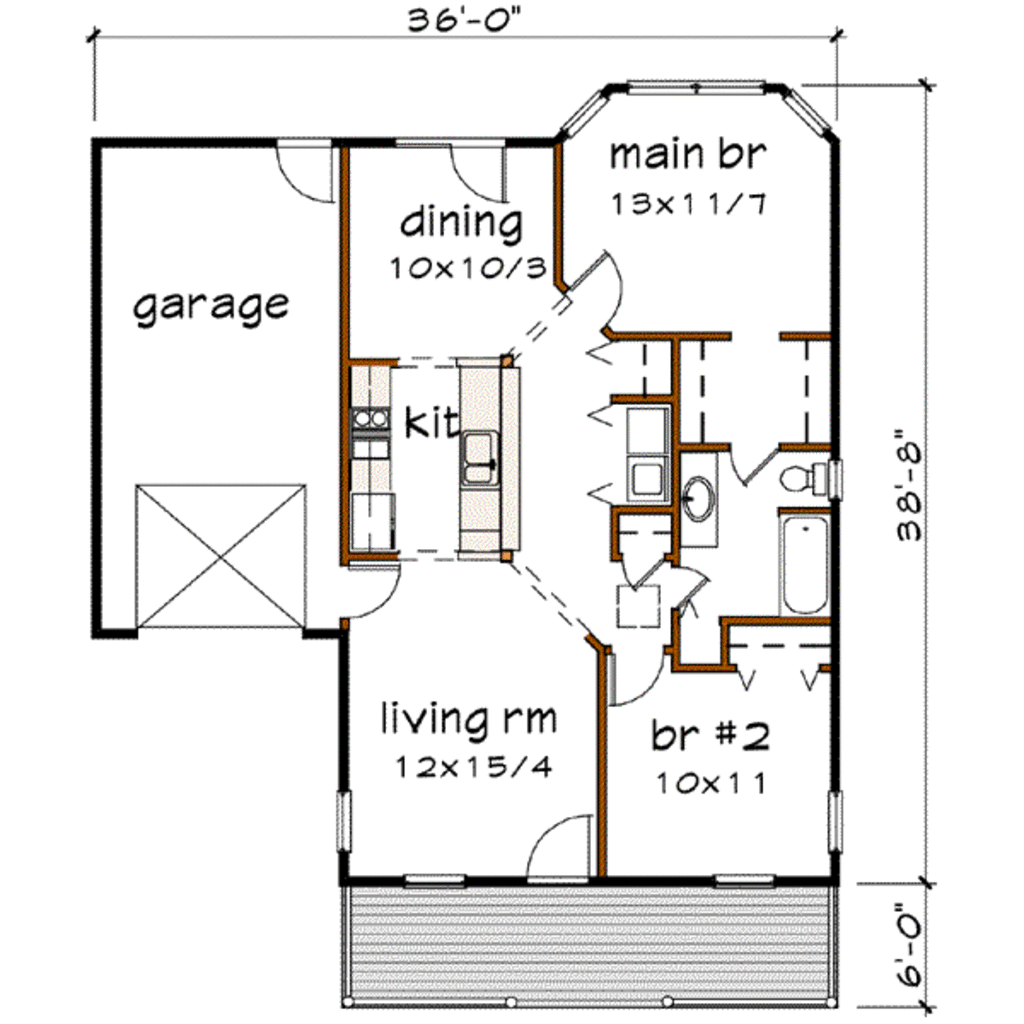door: (273, 132, 341, 210), (567, 249, 634, 327), (439, 138, 520, 202), (528, 814, 602, 883), (331, 557, 411, 619), (608, 650, 664, 710), (728, 435, 778, 496), (658, 560, 711, 614), (614, 547, 672, 592)
large_sink: (784, 450, 844, 503)
small_sink: (670, 471, 719, 535)
tub: (777, 507, 831, 614)
twin_sink: (442, 430, 511, 485)
window: (563, 77, 842, 136), (327, 782, 363, 855), (822, 786, 850, 857), (708, 864, 777, 891), (397, 867, 470, 889)
